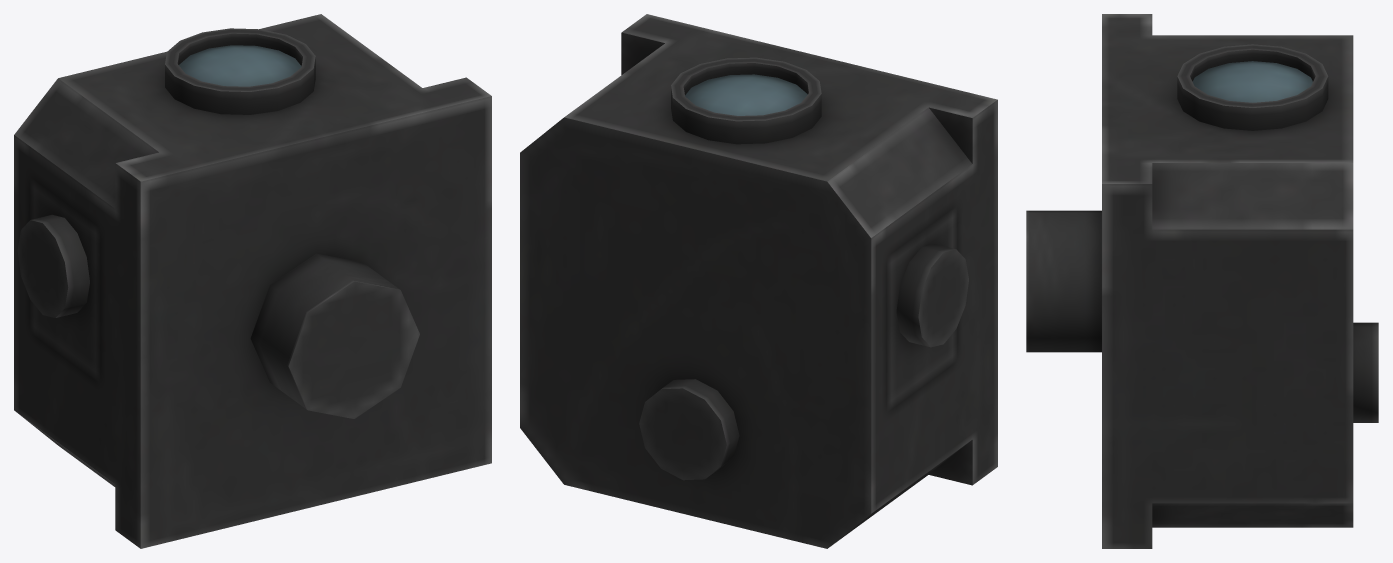
File: 4mv_sensor_infrared_camera_s0_1_compact.obj
3 views of the same model, side by side, from view 1: azimuth 30°, elevation 25°; view 2: azimuth 150°, elevation 25°; view 3: azimuth 270°, elevation 25° (orthographic).
Parts seen in each view (by area): view 1: mesh1, lense1; view 2: mesh1, lense1; view 3: mesh1, lense1.
Part boxes in pixels (left/top/right/bottom): mesh1: left=14, top=14, right=491, bottom=548; lense1: left=179, top=45, right=301, bottom=86; mesh1: left=520, top=14, right=997, bottom=548; lense1: left=685, top=74, right=807, bottom=115; mesh1: left=1026, top=14, right=1378, bottom=548; lense1: left=1192, top=61, right=1312, bottom=102.
Bounding box in the file's own units: 0.2125 × 0.2125 × 0.175.
